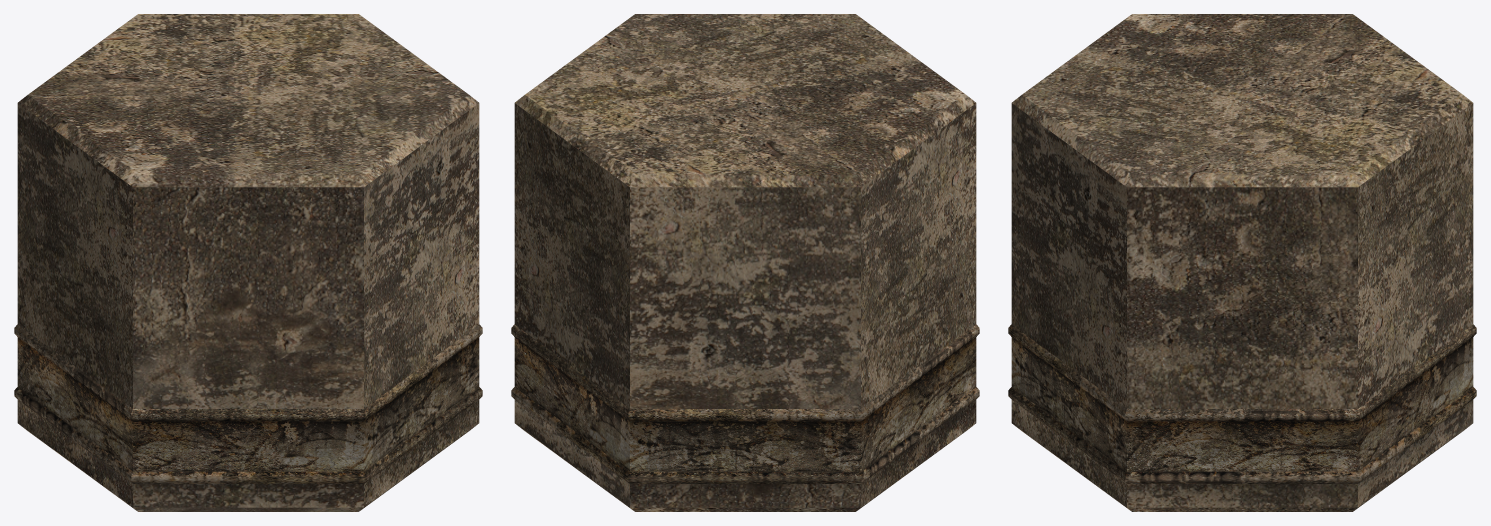
Rendered from materials_5_pedestal_6.fbx.
3 views of the same model, side by side, from view 1: azimuth 30°, elevation 25°; view 2: azimuth 150°, elevation 25°; view 3: azimuth 270°, elevation 25° (orthographic).
Parts seen in each view (by area): view 1: materials_5_pedestal_6; view 2: materials_5_pedestal_6; view 3: materials_5_pedestal_6.
Boxes of the visible parts, x1,y1,x2,y2 form: materials_5_pedestal_6: (14, 14, 482, 511); materials_5_pedestal_6: (511, 14, 979, 511); materials_5_pedestal_6: (1008, 14, 1476, 511).
Bounding box in the file's own units: 58.86 × 53.9 × 67.96.
